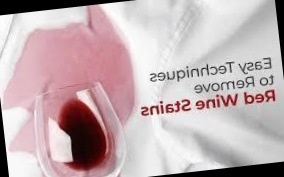wine: (0, 7, 139, 127), (11, 111, 40, 162)
